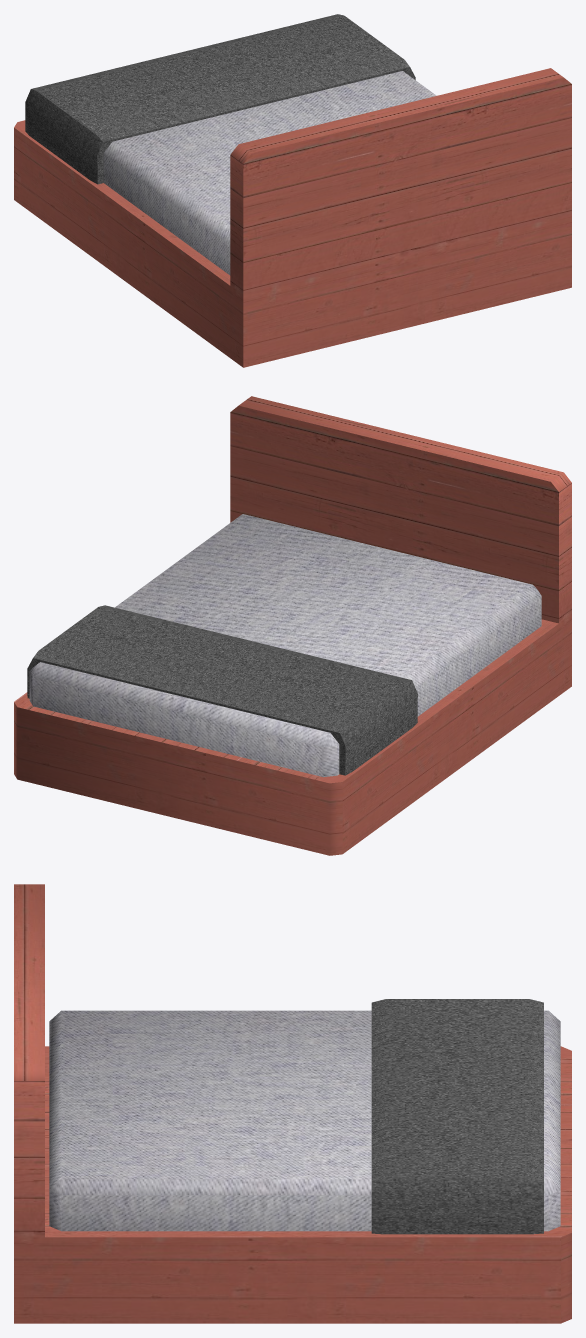
The model's file is Bed_05.glb.
3 views of the same model, one above another, from view 1: azimuth 30°, elevation 25°; view 2: azimuth 150°, elevation 25°; view 3: azimuth 270°, elevation 25° (orthographic). The views are drawn at different scales.
Parts seen in each view (by area): view 1: Bed_05; view 2: Bed_05; view 3: Bed_05.
Boxes of the visible parts, x1,y1,x2,y2 form: Bed_05: [14, 14, 571, 367]; Bed_05: [14, 396, 571, 855]; Bed_05: [14, 884, 571, 1323].
Bounding box in the file's own units: 2.14 × 1.32 × 2.63.
3 materials, 3 textured.
